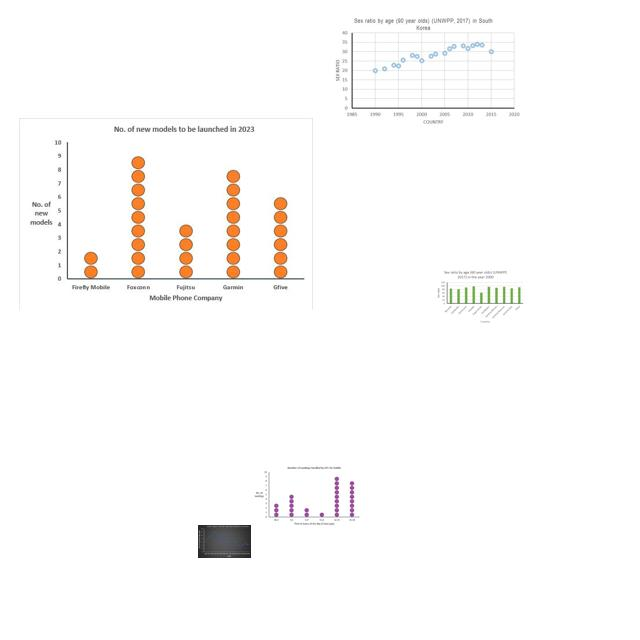Graph: (19, 118, 313, 310), (331, 15, 521, 126), (251, 464, 362, 528), (435, 268, 525, 325), (198, 525, 251, 558)
